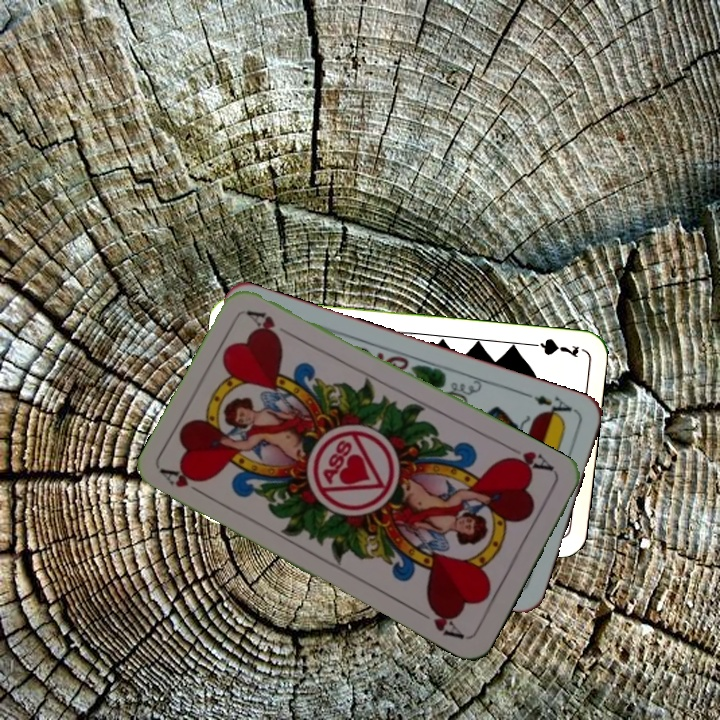EA: (521, 388, 578, 423)
G7: (523, 334, 582, 360)
HA: (158, 465, 213, 502), (499, 442, 557, 476)
